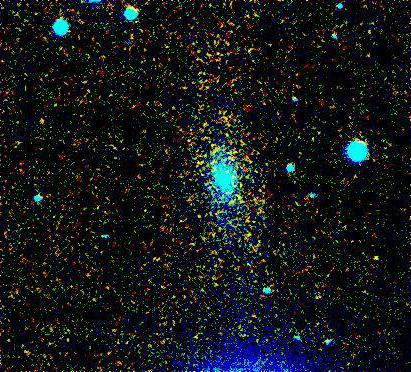star: (352, 244, 382, 274)
